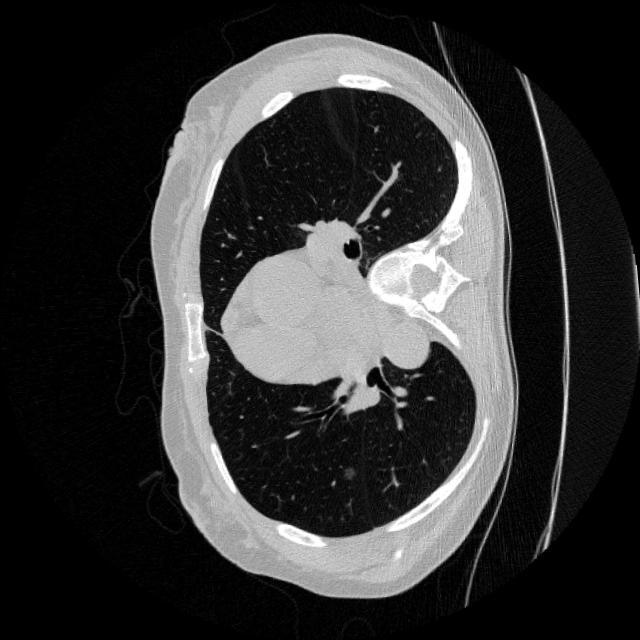nodule: (333, 456, 363, 486)
